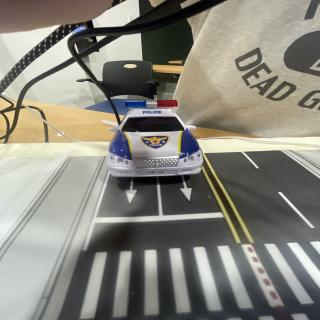Police_car: (107, 100, 203, 177)
